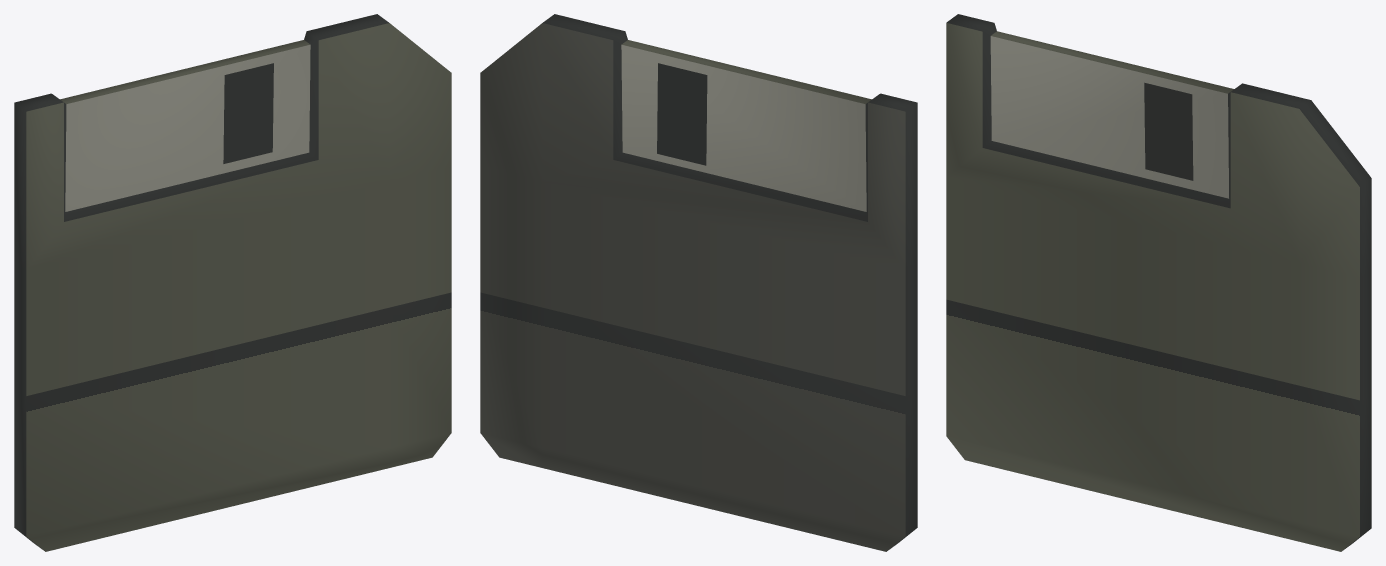
3 renders of one model, left to right at view 1: azimuth 30°, elevation 25°; view 2: azimuth 150°, elevation 25°; view 3: azimuth 330°, elevation 25°, orthographic. The views are drawn at different scales.
Parts seen in each view (by area): view 1: Plane.050; view 2: Plane.050; view 3: Plane.050.
Boxes of the visible parts, box(x1,y1,x2,y2) form: Plane.050: box(14, 14, 451, 551); Plane.050: box(480, 14, 917, 551); Plane.050: box(946, 14, 1371, 551).
Size of the model in its own units: 0.4061 by 0.4061 by 0.0203.
1 material, 1 textured.
